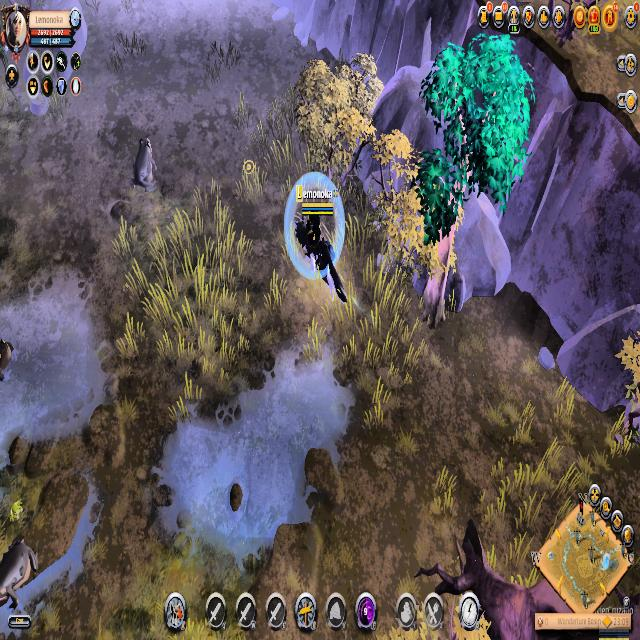wood tier 3: (417, 38, 536, 251)
